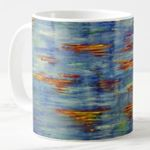cups: (7, 7, 139, 142)
